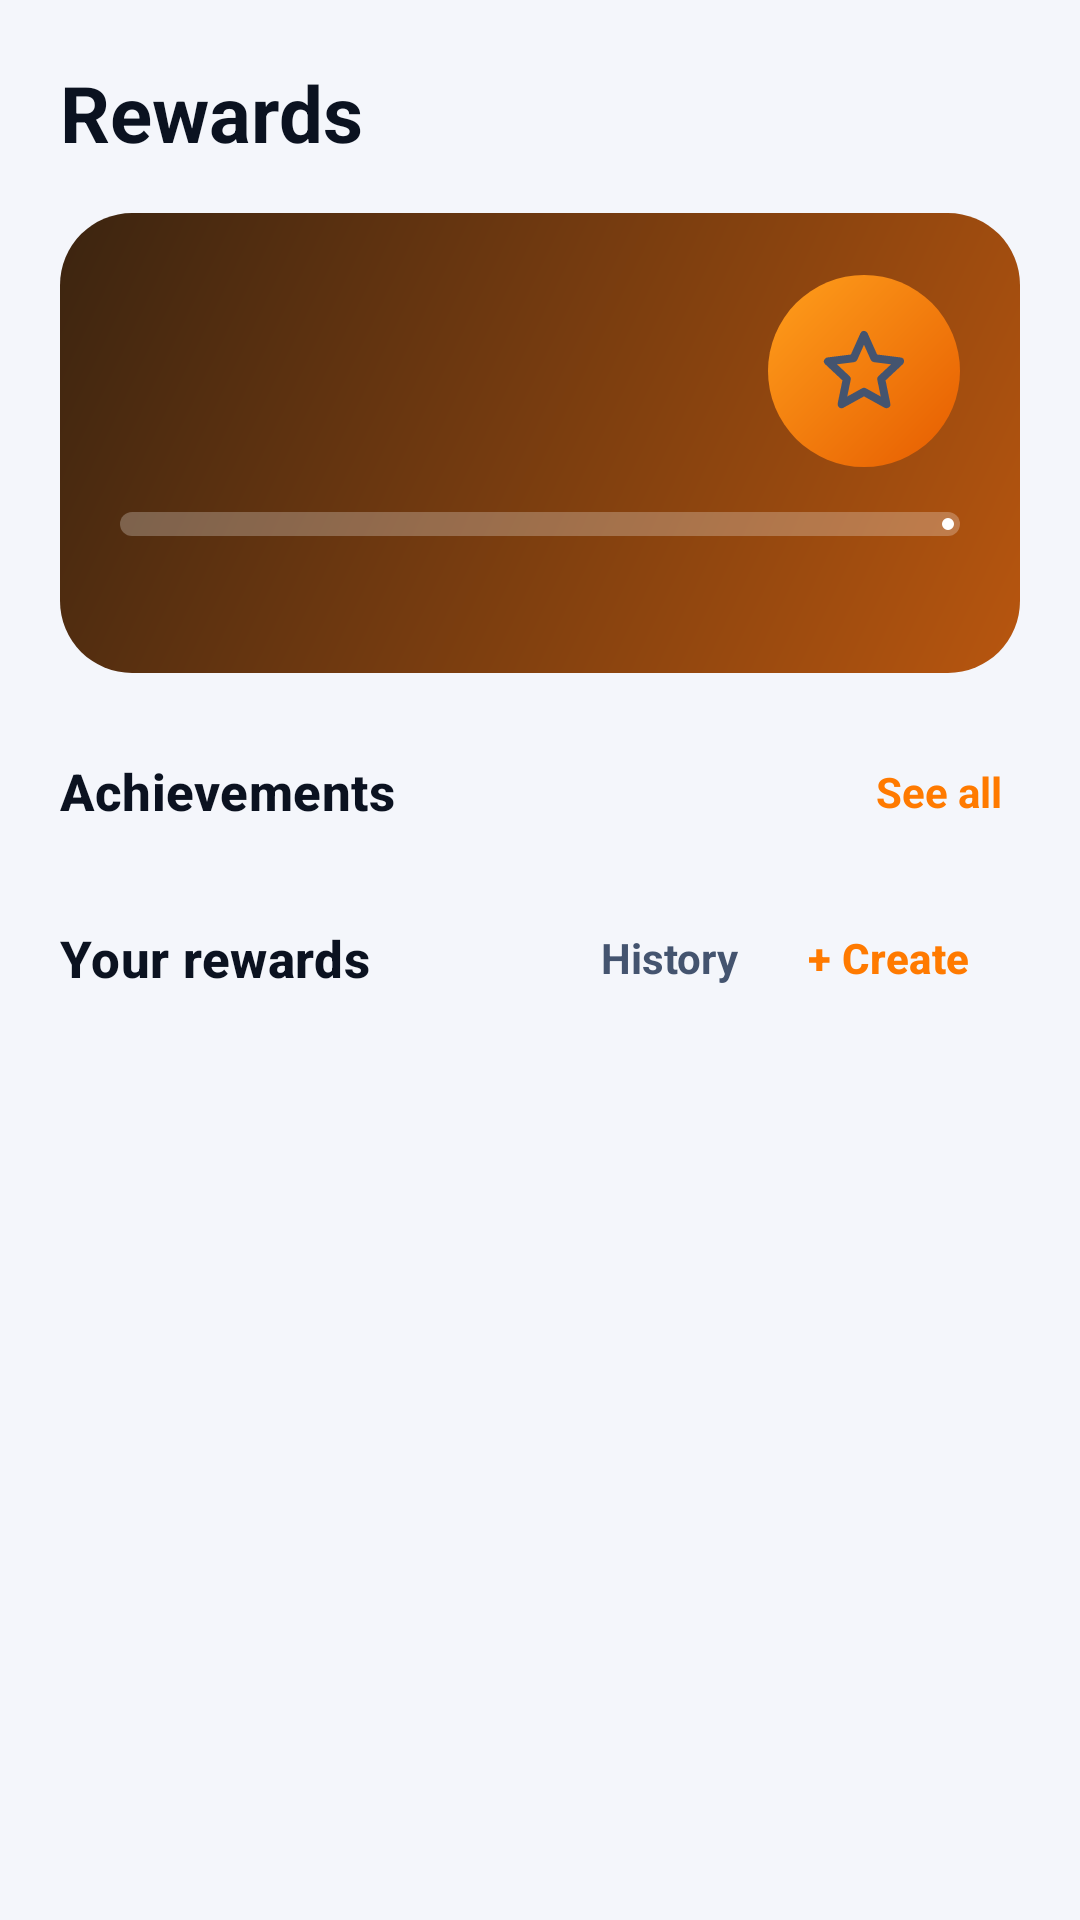

Where to tap for icons on this 1080×1920 app screen, as [x,y]:
star: [864,371]
